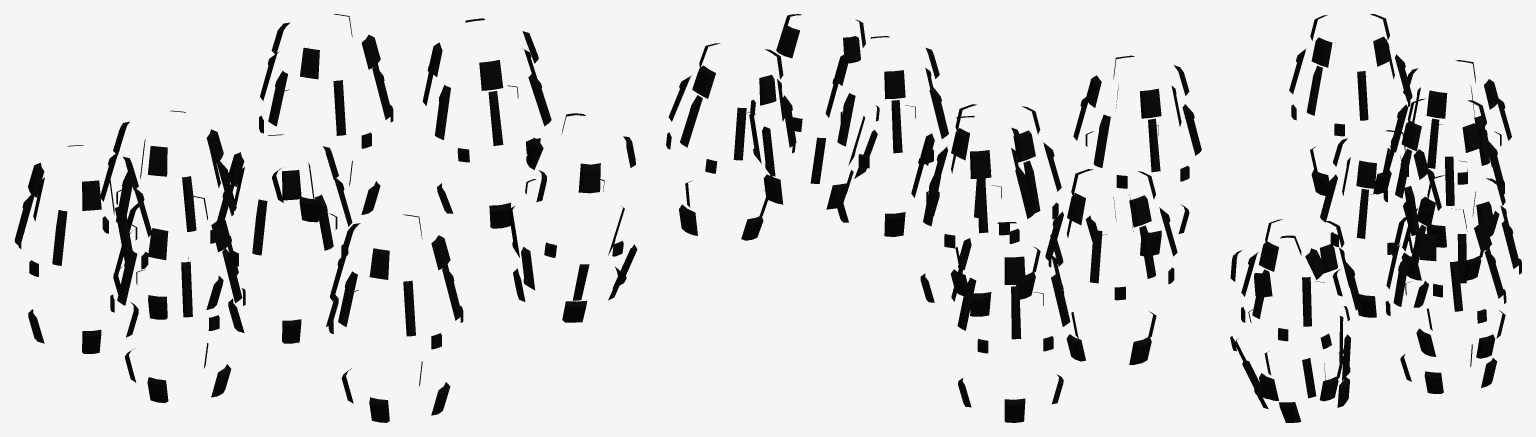
The model's file is prop_static_yao_container_01_05.glb.
3 views of the same model, side by side, from view 1: azimuth 30°, elevation 25°; view 2: azimuth 150°, elevation 25°; view 3: azimuth 270°, elevation 25° (orthographic). The views are drawn at different scales.
Visible parts, largest first — view 1: yao_container_01_05_LOD0; view 2: yao_container_01_05_LOD0; view 3: yao_container_01_05_LOD0.
Part boxes in pixels (bbox=[...]): yao_container_01_05_LOD0: bbox=[14, 14, 637, 422]; yao_container_01_05_LOD0: bbox=[666, 14, 1201, 422]; yao_container_01_05_LOD0: bbox=[1230, 14, 1521, 422].
Size of what is drawn, in the model's own units: 8.97 by 5.41 by 4.9.
Materials: 1 (1 with a texture image).
